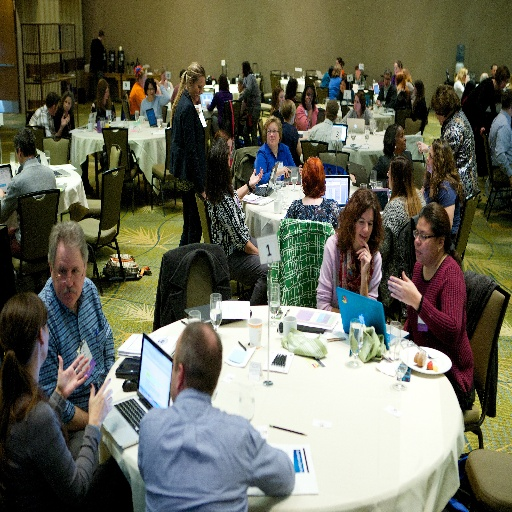hand: (55, 351, 91, 398), (86, 376, 114, 433), (387, 268, 420, 306), (355, 237, 374, 276), (247, 166, 264, 188), (59, 110, 70, 129), (275, 166, 291, 179), (416, 139, 429, 155), (303, 95, 313, 110), (298, 163, 304, 180), (153, 76, 160, 86)
